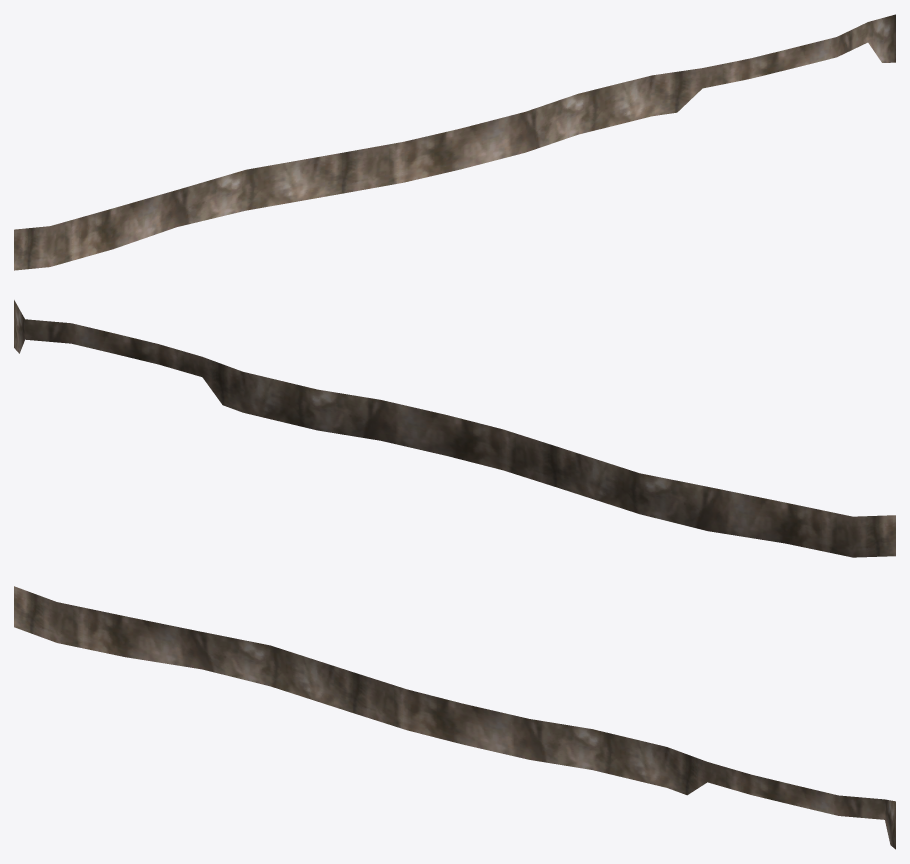
File: EKH_THRONE_PS_TH_RIVER_TRIM344.obj
3 renders of one model, top to bottom at view 1: azimuth 30°, elevation 25°; view 2: azimuth 150°, elevation 25°; view 3: azimuth 330°, elevation 25°, orthographic.
Parts seen in each view (by area): view 1: H_River_Trim344; view 2: H_River_Trim344; view 3: H_River_Trim344.
Boxes of the visible parts, bbox=[...] form: H_River_Trim344: bbox=[14, 14, 895, 270]; H_River_Trim344: bbox=[14, 300, 895, 557]; H_River_Trim344: bbox=[14, 586, 895, 849].
Bounding box in the file's own units: 2006 × 108 × 50.71.
